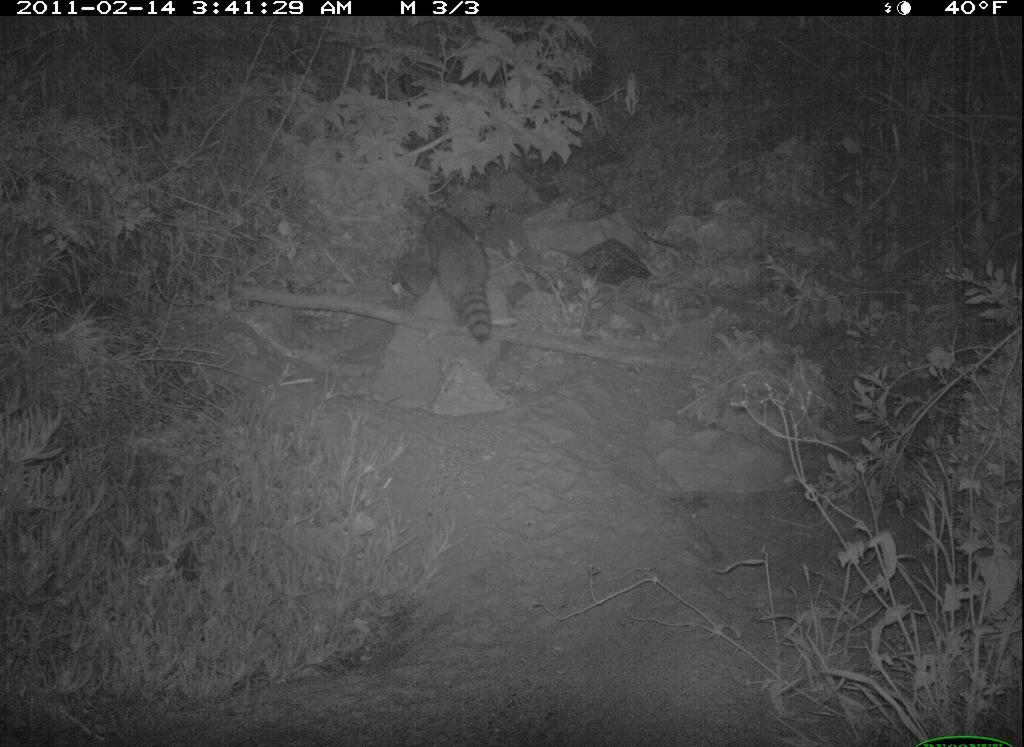raccoon: (401, 187, 516, 373)
